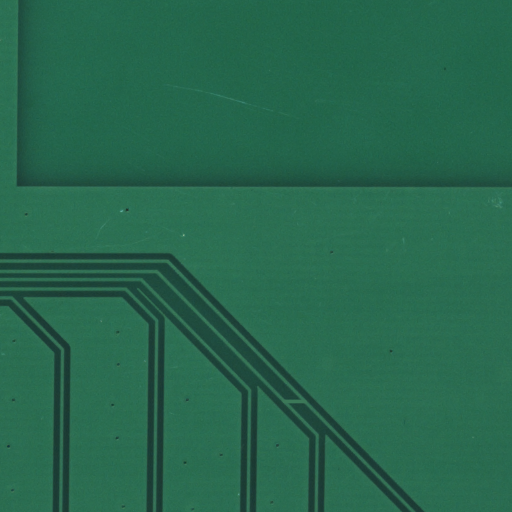Short: (295, 401, 318, 410)
